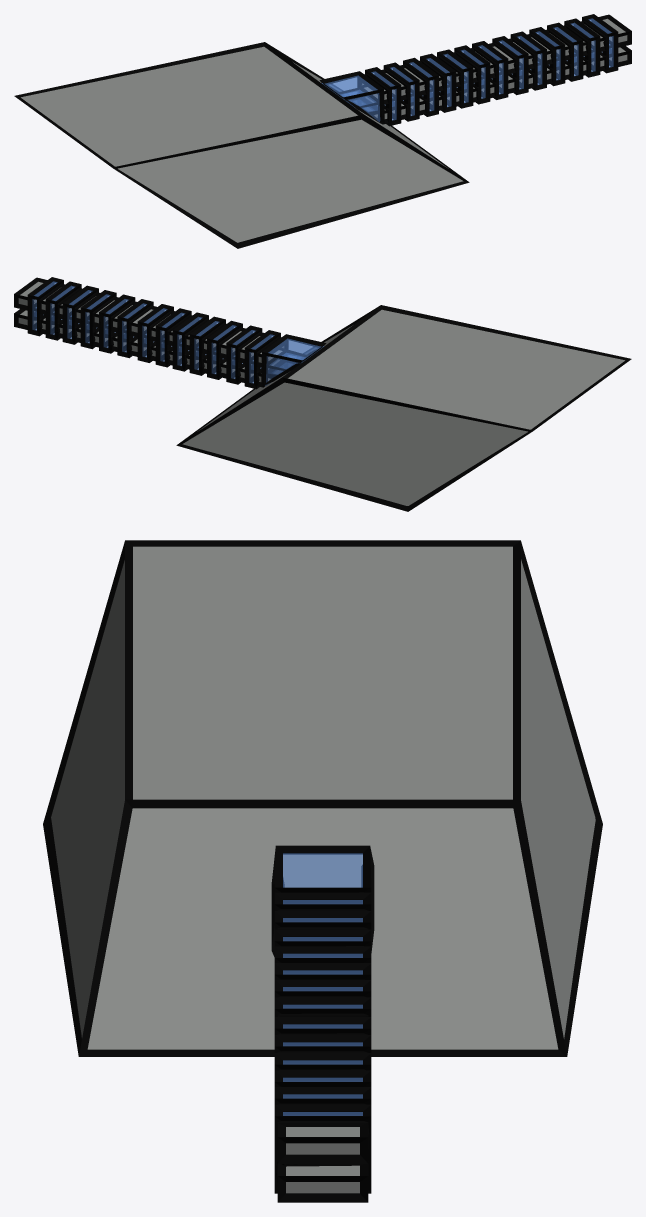
Rendered from TankTop2.fbx.
The picture shows the model from 3 angles, top to bottom: view 1: azimuth 30°, elevation 25°; view 2: azimuth 150°, elevation 25°; view 3: azimuth 270°, elevation 25°; orthographic projection. The views are drawn at different scales.
Parts seen in each view (by area): view 1: Top2; view 2: Top2; view 3: Top2.
Part boxes in pixels (x1,y1,x2,y2): Top2: [14, 14, 631, 248]; Top2: [14, 277, 631, 511]; Top2: [43, 540, 602, 1202].
Bounding box in the file's own units: 532 × 83.1 × 232.
